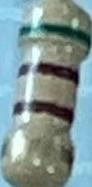Black: (11, 99, 75, 124), (17, 61, 80, 85)
Green: (21, 20, 90, 48)
Side-Silver: (1, 137, 75, 167)
